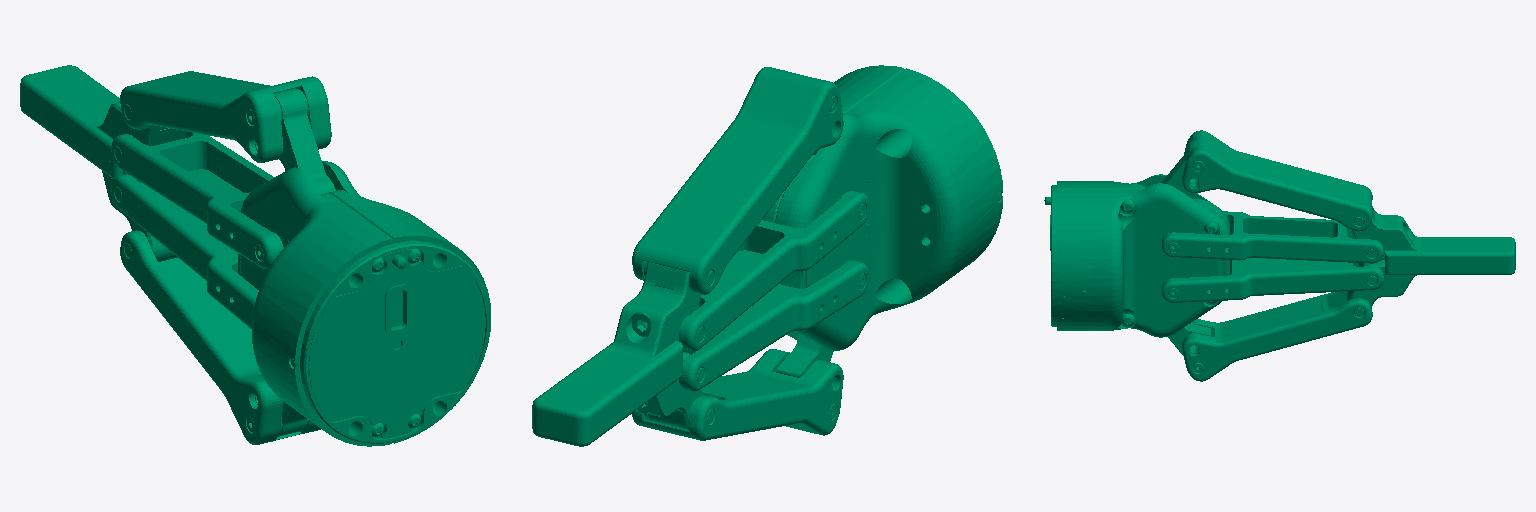
The robot description file, URDF, robot "ur3":
<?xml version="1.0" ?>
<!-- =================================================================================== -->
<!-- |    This document was autogenerated by xacro from [local-path]/main_ws/src/universal_real_robot/ur_description/urdf/ur3_2f140.urdf.xacro | -->
<!-- |    EDITING THIS FILE BY HAND IS NOT RECOMMENDED                                 | -->
<!-- =================================================================================== -->
<!-- =================================================================================== -->
<!-- |    This document was autogenerated by xacro from ur3_robot.urdf.xacro           | -->
<!-- |    EDITING THIS FILE BY HAND IS NOT RECOMMENDED                                 | -->
<!-- =================================================================================== -->
<!-- =================================================================================== -->
<!-- |    This document was autogenerated by xacro from ur3_robot.urdf.xacro           | -->
<!-- |    EDITING THIS FILE BY HAND IS NOT RECOMMENDED                                 | -->
<!-- =================================================================================== -->
<!-- =================================================================================== -->
<!-- |    This document was autogenerated by xacro from ur3_robot.urdf.xacro           | -->
<!-- |    EDITING THIS FILE BY HAND IS NOT RECOMMENDED                                 | -->
<!-- =================================================================================== -->
<robot name="ur3">
    <gazebo>
        <plugin filename="libgazebo_ros_control.so" name="ros_control">
            <!--robotNamespace>/</robotNamespace-->
            <!--robotSimType>gazebo_ros_control/DefaultRobotHWSim</robotSimType-->
        </plugin>
        <!--
    <plugin name="gazebo_ros_power_monitor_controller" filename="libgazebo_ros_power_monitor.so">
      <alwaysOn>true</alwaysOn>
      <updateRate>1.0</updateRate>
      <timeout>5</timeout>
      <powerStateTopic>power_state</powerStateTopic>
      <powerStateRate>10.0</powerStateRate>
      <fullChargeCapacity>87.78</fullChargeCapacity>     
      <dischargeRate>-474</dischargeRate>
      <chargeRate>525</chargeRate>
      <dischargeVoltage>15.52</dischargeVoltage>
      <chargeVoltage>16.41</chargeVoltage>
    </plugin>
-->
        <plugin name="gazebo_ros_control">
            <robotNamespace>/</robotNamespace>
        </plugin>
    </gazebo>
    <!--
  Author: [author]
-->
    <!-- measured from model -->
    <link name="base_link">
        <visual>
            <geometry>
                <mesh filename="package://ur_description/meshes/ur3/visual/base.dae" />
            </geometry>
            <material name="LightGrey">
                <color rgba="0.7 0.7 0.7 1.0" />
            </material>
        </visual>
        <collision>
            <geometry>
                <mesh filename="package://ur_description/meshes/ur3/collision/base.stl" />
            </geometry>
        </collision>
        <inertial>
            <mass value="2.0" />
            <origin rpy="0 0 0" xyz="0.0 0.0 0.0" />
            <inertia ixx="0.0030531654454" ixy="0.0" ixz="0.0" iyy="0.0030531654454" iyz="0.0" izz="0.005625" />
        </inertial>
    </link>
    <joint name="shoulder_pan_joint" type="revolute">
        <parent link="base_link" />
        <child link="shoulder_link" />
        <origin rpy="0.0 0.0 0.0" xyz="0.0 0.0 0.1519" />
        <axis xyz="0 0 1" />
        <limit effort="330.0" lower="-6.28318530718" upper="6.28318530718" velocity="2.16" />
        <dynamics damping="0.0" friction="0.0" />
    </joint>
    <link name="shoulder_link">
        <visual>
            <geometry>
                <mesh filename="package://ur_description/meshes/ur3/visual/shoulder.dae" />
            </geometry>
            <material name="LightGrey">
                <color rgba="0.7 0.7 0.7 1.0" />
            </material>
        </visual>
        <collision>
            <geometry>
                <mesh filename="package://ur_description/meshes/ur3/collision/shoulder.stl" />
            </geometry>
        </collision>
        <inertial>
            <mass value="2.0" />
            <origin rpy="0 0 0" xyz="0.0 0.0 0.0" />
            <inertia ixx="0.0080931634294" ixy="0.0" ixz="0.0" iyy="0.0080931634294" iyz="0.0" izz="0.005625" />
        </inertial>
    </link>
    <joint name="shoulder_lift_joint" type="revolute">
        <parent link="shoulder_link" />
        <child link="upper_arm_link" />
        <origin rpy="0.0 1.57079632679 0.0" xyz="0.0 0.1198 0.0" />
        <axis xyz="0 1 0" />
        <limit effort="330.0" lower="-6.28318530718" upper="6.28318530718" velocity="2.16" />
        <dynamics damping="0.0" friction="0.0" />
    </joint>
    <link name="upper_arm_link">
        <visual>
            <geometry>
                <mesh filename="package://ur_description/meshes/ur3/visual/upperarm.dae" />
            </geometry>
            <material name="LightGrey">
                <color rgba="0.7 0.7 0.7 1.0" />
            </material>
        </visual>
        <collision>
            <geometry>
                <mesh filename="package://ur_description/meshes/ur3/collision/upperarm.stl" />
            </geometry>
        </collision>
        <inertial>
            <mass value="3.42" />
            <origin rpy="0 0 0" xyz="0.0 0.0 0.121825" />
            <inertia ixx="0.0217284832211" ixy="0.0" ixz="0.0" iyy="0.0217284832211" iyz="0.0" izz="0.00961875" />
        </inertial>
    </link>
    <joint name="elbow_joint" type="revolute">
        <parent link="upper_arm_link" />
        <child link="forearm_link" />
        <origin rpy="0.0 0.0 0.0" xyz="0.0 -0.0925 0.24365" />
        <axis xyz="0 1 0" />
        <limit effort="150.0" lower="-3.14159265359" upper="3.14159265359" velocity="3.15" />
        <dynamics damping="0.0" friction="0.0" />
    </joint>
    <link name="forearm_link">
        <visual>
            <geometry>
                <mesh filename="package://ur_description/meshes/ur3/visual/forearm.dae" />
            </geometry>
            <material name="LightGrey">
                <color rgba="0.7 0.7 0.7 1.0" />
            </material>
        </visual>
        <collision>
            <geometry>
                <mesh filename="package://ur_description/meshes/ur3/collision/forearm.stl" />
            </geometry>
        </collision>
        <inertial>
            <mass value="1.26" />
            <origin rpy="0 0 0" xyz="0.0 0.0 0.106625" />
            <inertia ixx="0.00654680644378" ixy="0.0" ixz="0.0" iyy="0.00654680644378" iyz="0.0" izz="0.00354375" />
        </inertial>
    </link>
    <joint name="wrist_1_joint" type="revolute">
        <parent link="forearm_link" />
        <child link="wrist_1_link" />
        <origin rpy="0.0 1.57079632679 0.0" xyz="0.0 0.0 0.21325" />
        <axis xyz="0 1 0" />
        <limit effort="54.0" lower="-6.28318530718" upper="6.28318530718" velocity="3.2" />
        <dynamics damping="0.0" friction="0.0" />
    </joint>
    <link name="wrist_1_link">
        <visual>
            <geometry>
                <mesh filename="package://ur_description/meshes/ur3/visual/wrist1.dae" />
            </geometry>
            <material name="LightGrey">
                <color rgba="0.7 0.7 0.7 1.0" />
            </material>
        </visual>
        <collision>
            <geometry>
                <mesh filename="package://ur_description/meshes/ur3/collision/wrist1.stl" />
            </geometry>
        </collision>
        <inertial>
            <mass value="0.8" />
            <origin rpy="0 0 0" xyz="0.0 0.08505 0.0" />
            <inertia ixx="0.002084999166" ixy="0.0" ixz="0.0" iyy="0.002084999166" iyz="0.0" izz="0.00225" />
        </inertial>
    </link>
    <joint name="wrist_2_joint" type="revolute">
        <parent link="wrist_1_link" />
        <child link="wrist_2_link" />
        <origin rpy="0.0 0.0 0.0" xyz="0.0 0.08505 0.0" />
        <axis xyz="0 0 1" />
        <limit effort="54.0" lower="-6.28318530718" upper="6.28318530718" velocity="3.2" />
        <dynamics damping="0.0" friction="0.0" />
    </joint>
    <link name="wrist_2_link">
        <visual>
            <geometry>
                <mesh filename="package://ur_description/meshes/ur3/visual/wrist2.dae" />
            </geometry>
            <material name="LightGrey">
                <color rgba="0.7 0.7 0.7 1.0" />
            </material>
        </visual>
        <collision>
            <geometry>
                <mesh filename="package://ur_description/meshes/ur3/collision/wrist2.stl" />
            </geometry>
        </collision>
        <inertial>
            <mass value="0.8" />
            <origin rpy="0 0 0" xyz="0.0 0.0 0.08535" />
            <inertia ixx="0.002084999166" ixy="0.0" ixz="0.0" iyy="0.002084999166" iyz="0.0" izz="0.00225" />
        </inertial>
    </link>
    <joint name="wrist_3_joint" type="revolute">
        <parent link="wrist_2_link" />
        <child link="wrist_3_link" />
        <origin rpy="0.0 0.0 0.0" xyz="0.0 0.0 0.08535" />
        <axis xyz="0 1 0" />
        <limit effort="54.0" lower="-6.28318530718" upper="6.28318530718" velocity="3.2" />
        <dynamics damping="0.0" friction="0.0" />
    </joint>
    <link name="wrist_3_link">
        <visual>
            <geometry>
                <mesh filename="package://ur_description/meshes/ur3/visual/wrist3.dae" />
            </geometry>
            <material name="LightGrey">
                <color rgba="0.7 0.7 0.7 1.0" />
            </material>
        </visual>
        <collision>
            <geometry>
                <mesh filename="package://ur_description/meshes/ur3/collision/wrist3.stl" />
            </geometry>
        </collision>
        <inertial>
            <mass value="0.35" />
            <origin rpy="1.57079632679 0 0" xyz="0.0 0.0619 0.0" />
            <inertia ixx="0.00013626661216" ixy="0.0" ixz="0.0" iyy="0.00013626661216" iyz="0.0" izz="0.0001792" />
        </inertial>
    </link>
    <joint name="ee_fixed_joint" type="fixed">
        <parent link="wrist_3_link" />
        <child link="ee_link" />
        <origin rpy="0.0 0.0 1.57079632679" xyz="0.0 0.089 0.0" />
    </joint>
    <link name="ee_link">
        <collision>
            <geometry>
                <box size="0.01 0.01 0.01" />
            </geometry>
            <origin rpy="0 0 0" xyz="-0.01 0 0" />
        </collision>
        <inertial>
            <mass value="0.1" />
            <origin xyz="0 0 0" rpy="0 0 0" />
            <inertia ixx="0.03" iyy="0.03" izz="0.03" ixy="0.0" ixz="0.0" iyz="0.0" />
        </inertial>
    </link>
    <transmission name="shoulder_pan_trans">
        <type>transmission_interface/SimpleTransmission</type>
        <joint name="shoulder_pan_joint">
            <hardwareInterface>hardware_interface/PositionJointInterface</hardwareInterface>
        </joint>
        <actuator name="shoulder_pan_motor">
            <mechanicalReduction>1</mechanicalReduction>
            <hardwareInterface>hardware_interface/EffortJointInterface</hardwareInterface>
        </actuator>
    </transmission>
    <transmission name="shoulder_lift_trans">
        <type>transmission_interface/SimpleTransmission</type>
        <joint name="shoulder_lift_joint">
            <hardwareInterface>hardware_interface/PositionJointInterface</hardwareInterface>
        </joint>
        <actuator name="shoulder_lift_motor">
            <mechanicalReduction>1</mechanicalReduction>
            <hardwareInterface>hardware_interface/EffortJointInterface</hardwareInterface>
        </actuator>
    </transmission>
    <transmission name="elbow_trans">
        <type>transmission_interface/SimpleTransmission</type>
        <joint name="elbow_joint">
            <hardwareInterface>hardware_interface/PositionJointInterface</hardwareInterface>
        </joint>
        <actuator name="elbow_motor">
            <mechanicalReduction>1</mechanicalReduction>
            <hardwareInterface>hardware_interface/EffortJointInterface</hardwareInterface>
        </actuator>
    </transmission>
    <transmission name="wrist_1_trans">
        <type>transmission_interface/SimpleTransmission</type>
        <joint name="wrist_1_joint">
            <hardwareInterface>hardware_interface/PositionJointInterface</hardwareInterface>
        </joint>
        <actuator name="wrist_1_motor">
            <mechanicalReduction>1</mechanicalReduction>
            <hardwareInterface>hardware_interface/EffortJointInterface</hardwareInterface>
        </actuator>
    </transmission>
    <transmission name="wrist_2_trans">
        <type>transmission_interface/SimpleTransmission</type>
        <joint name="wrist_2_joint">
            <hardwareInterface>hardware_interface/PositionJointInterface</hardwareInterface>
        </joint>
        <actuator name="wrist_2_motor">
            <mechanicalReduction>1</mechanicalReduction>
            <hardwareInterface>hardware_interface/EffortJointInterface</hardwareInterface>
        </actuator>
    </transmission>
    <transmission name="wrist_3_trans">
        <type>transmission_interface/SimpleTransmission</type>
        <joint name="wrist_3_joint">
            <hardwareInterface>hardware_interface/PositionJointInterface</hardwareInterface>
        </joint>
        <actuator name="wrist_3_motor">
            <mechanicalReduction>1</mechanicalReduction>
            <hardwareInterface>hardware_interface/EffortJointInterface</hardwareInterface>
        </actuator>
    </transmission>
    <gazebo reference="shoulder_link">
        <selfCollide>true</selfCollide>
    </gazebo>
    <gazebo reference="upper_arm_link">
        <selfCollide>true</selfCollide>
    </gazebo>
    <gazebo reference="forearm_link">
        <selfCollide>true</selfCollide>
    </gazebo>
    <gazebo reference="wrist_1_link">
        <selfCollide>true</selfCollide>
    </gazebo>
    <gazebo reference="wrist_3_link">
        <selfCollide>true</selfCollide>
    </gazebo>
    <gazebo reference="wrist_2_link">
        <selfCollide>true</selfCollide>
    </gazebo>
    <gazebo reference="ee_link">
        <selfCollide>true</selfCollide>
    </gazebo>
    <!-- ROS base_link to UR 'Base' Coordinates transform -->
    <link name="base" />
    <joint name="base_link-base_fixed_joint" type="fixed">
        <!-- NOTE: this rotation is only needed as long as base_link itself is
                 not corrected wrt the real robot (ie: rotated over 180
                 degrees)
      -->
        <origin rpy="0 0 -3.14159265359" xyz="0 0 0" />
        <parent link="base_link" />
        <child link="base" />
    </joint>
    <!-- Frame coincident with all-zeros TCP on UR controller -->
    <link name="tool0" />
    <joint name="wrist_3_link-tool0_fixed_joint" type="fixed">
        <origin rpy="-1.57079632679 0 0" xyz="0 0.0819 0" />
        <parent link="wrist_3_link" />
        <child link="tool0" />
    </joint>
    <!-- Create a fixed joint with a parameterized name. -->
    <joint name="measurement_tool_joint" type="fixed">
        <!-- The parent link must be read from the robot model it is attached to. -->
        <parent link="tool0" />
        <child link="measurement_tool" />
        <!-- Effector position -->
        <origin rpy="1.5708 0 1.5708" xyz="-0.029 -0.049 0.001" />
    </joint>
    <link name="measurement_tool">
        <visual>
            <geometry>
                <!-- The path to the visual meshes in the package. -->
                <mesh filename="package://ur_description/meshes/ur3/visual/2f140.dae" scale="0.0008 0.0008 0.0008" />
            </geometry>
        </visual>
        <collision>
            <geometry>
                <!-- The path to the collision meshes in the package. -->
                <mesh filename="package://ur_description/meshes/ur3/collision/2f140.stl" scale="0.0008 0.0008 0.0008" />
            </geometry>
        </collision>
        <inertial>
            <mass value="0.1" />
            <origin xyz="0 0 0" rpy="0 0 0" />
            <inertia ixx="0.03" iyy="0.03" izz="0.03" ixy="0.0" ixz="0.0" iyz="0.0" />
        </inertial>
    </link>
    <!-- TCP frame -->
    <joint name="tcp_joint" type="fixed">
        <origin rpy="0 0 0" xyz="0 0 0.116" />
        <parent link="measurement_tool" />
        <child link="tcp" />
    </joint>
    <link name="tcp" />
    <link name="world" />
    <joint name="world_joint" type="fixed">
        <parent link="world" />
        <child link="base_link" />
        <origin rpy="0.0 0.0 0.0" xyz="0.0 0.0 0.0" />
    </joint>
</robot>

--- Render facts (derived) ---
3 views of the same robot in one strip: view 1: azimuth 30°, elevation 25°; view 2: azimuth 150°, elevation 25°; view 3: azimuth 270°, elevation 25° (orthographic).
Robot: ur3 — 13 links, 12 joints (6 revolute, 6 fixed); root link world; default pose: all joints at 0.
Links seen in each view (by area): view 1: measurement_tool; view 2: measurement_tool; view 3: measurement_tool.
Link boxes in pixels (x1,y1,x2,y2): measurement_tool: [20, 65, 490, 446]; measurement_tool: [532, 65, 1002, 446]; measurement_tool: [1044, 130, 1515, 381].
Bounding box of the posed robot: 0.06 × 0.1893 × 0.1024 m (x, y, z).
Meshes: 8 distinct files referenced, 1 mesh visuals loaded (1 Collada DAE); not drawn: 7 (reference not matched to a file when rendering).